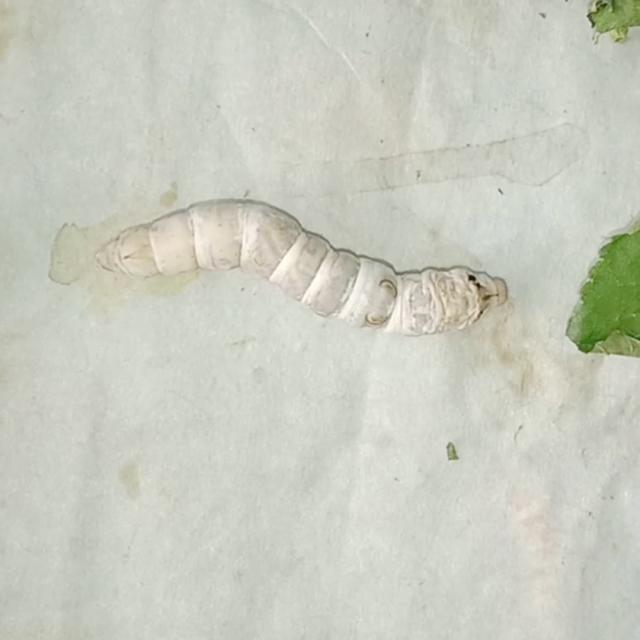Grasserie: (87, 178, 514, 348)
